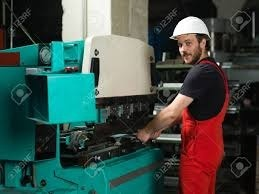helmet: (168, 15, 213, 41)
person with partial safety: (160, 14, 231, 193)
